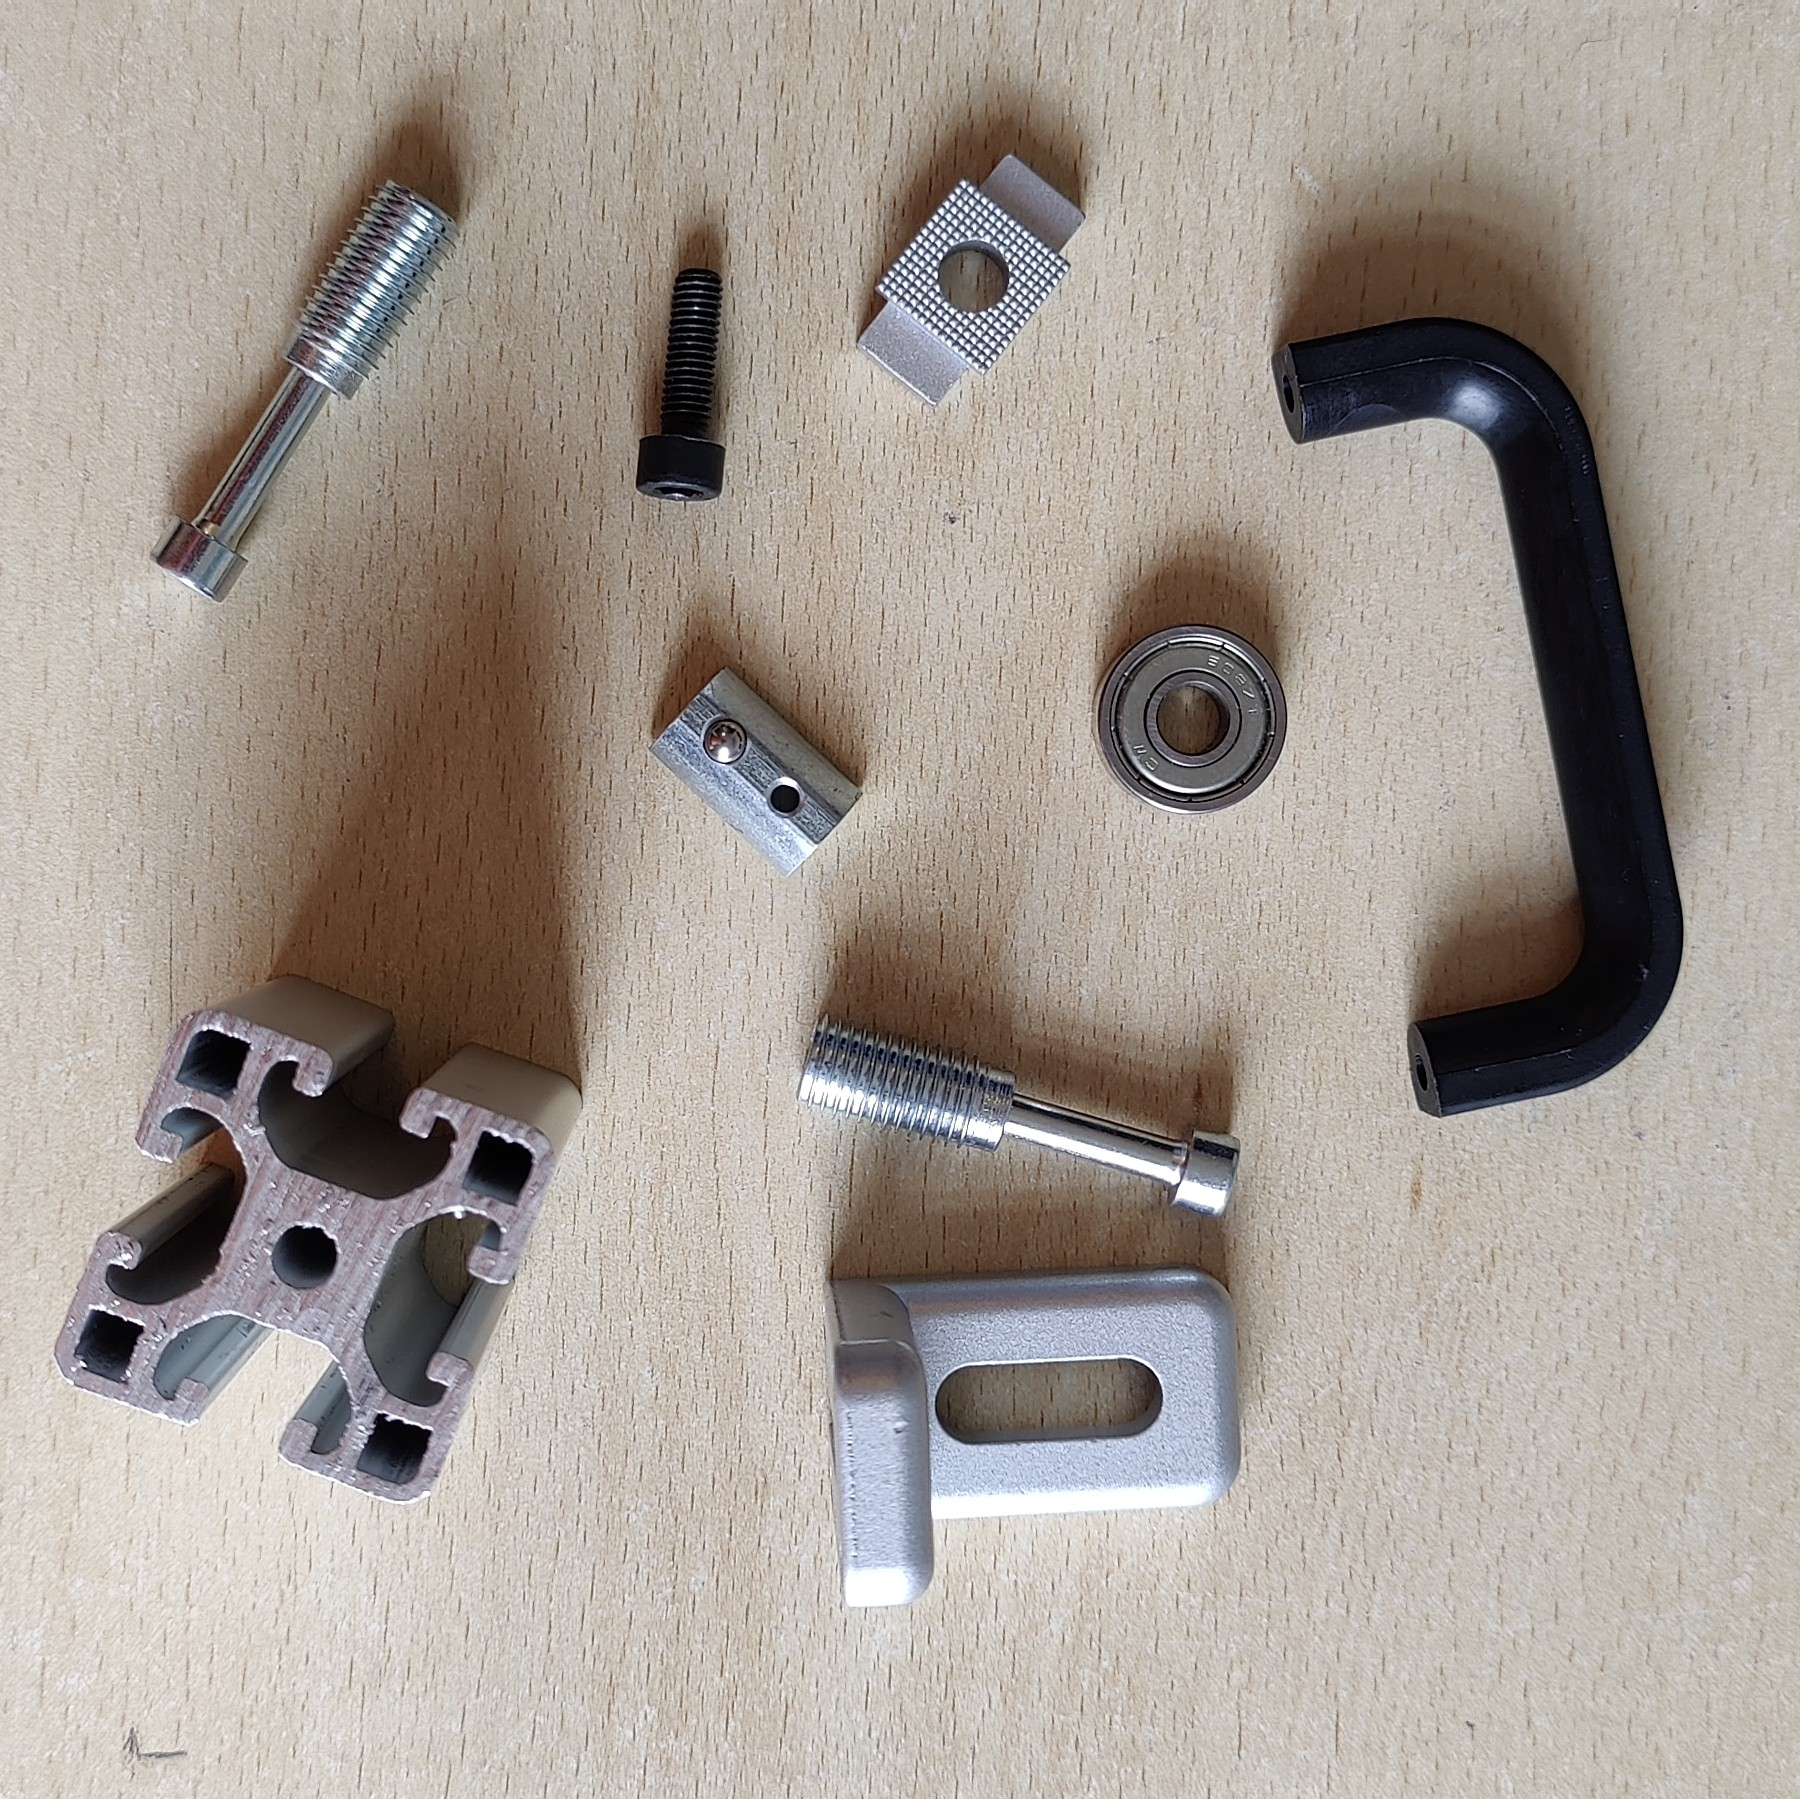Aluminium Extension: (53, 970, 583, 1506)
Ball Bearing: (1090, 619, 1289, 817)
Multiwinkel: (818, 1264, 1243, 1611)
Pull Handle: (1271, 313, 1683, 1119)
Shoulder Socket Head Cap Screw: (147, 175, 464, 605), (794, 1010, 1242, 1226)
Socket Head Cap Screw: (632, 265, 731, 502)
T Nut Square: (851, 150, 1089, 414)
T Spring Nut: (644, 662, 865, 880)
